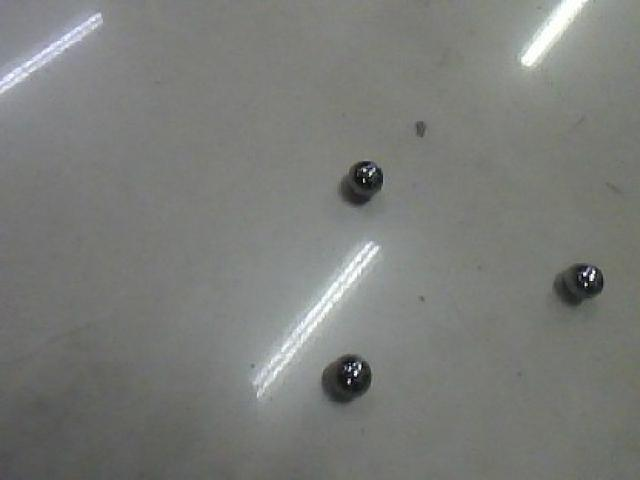steel-ball: (311, 320, 383, 418), (558, 237, 600, 315), (334, 142, 384, 206)
